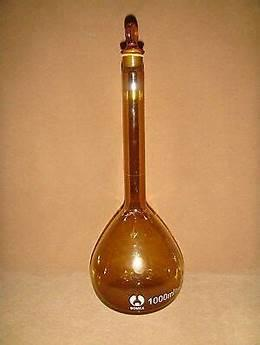Volumetric flask: (78, 13, 192, 312)
